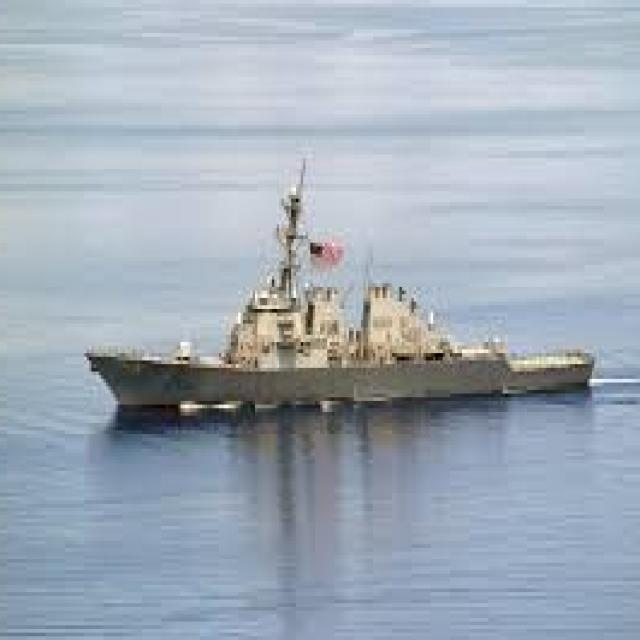navalvessels: (70, 163, 605, 433)
